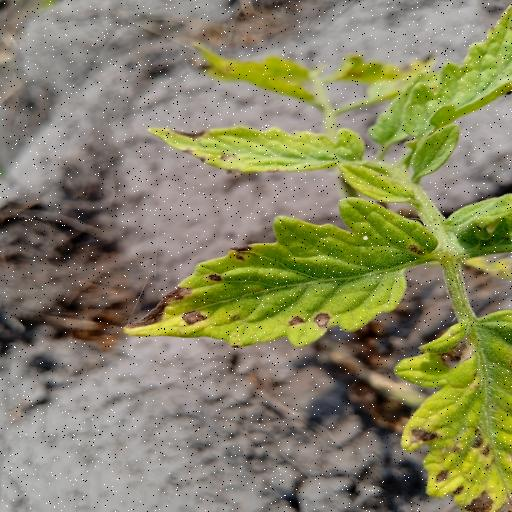Tomato_Brown_Spots: (120, 192, 440, 351), (392, 304, 512, 512), (383, 0, 512, 147), (142, 123, 367, 179)
